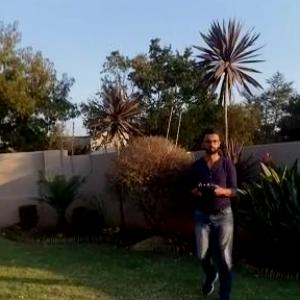follow: (188, 125, 242, 299)
